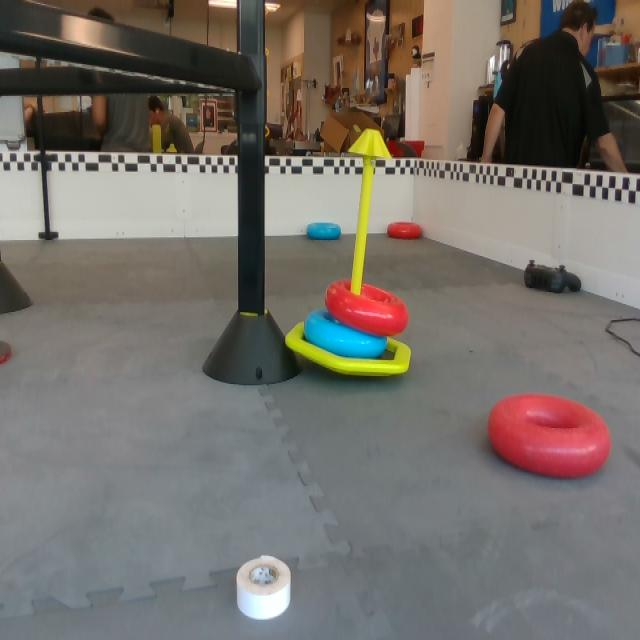Blue-Ring: (303, 310, 385, 355), (304, 218, 343, 238)
Mobile-Goal: (281, 126, 414, 385)
Red-Ring: (488, 393, 613, 483), (323, 279, 413, 335), (387, 223, 423, 240)
Yellow-Stake-Head: (349, 130, 392, 159)
